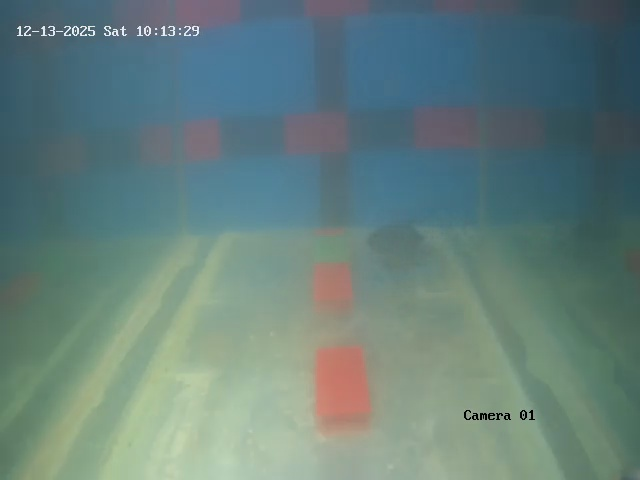fish: (363, 218, 444, 271)
